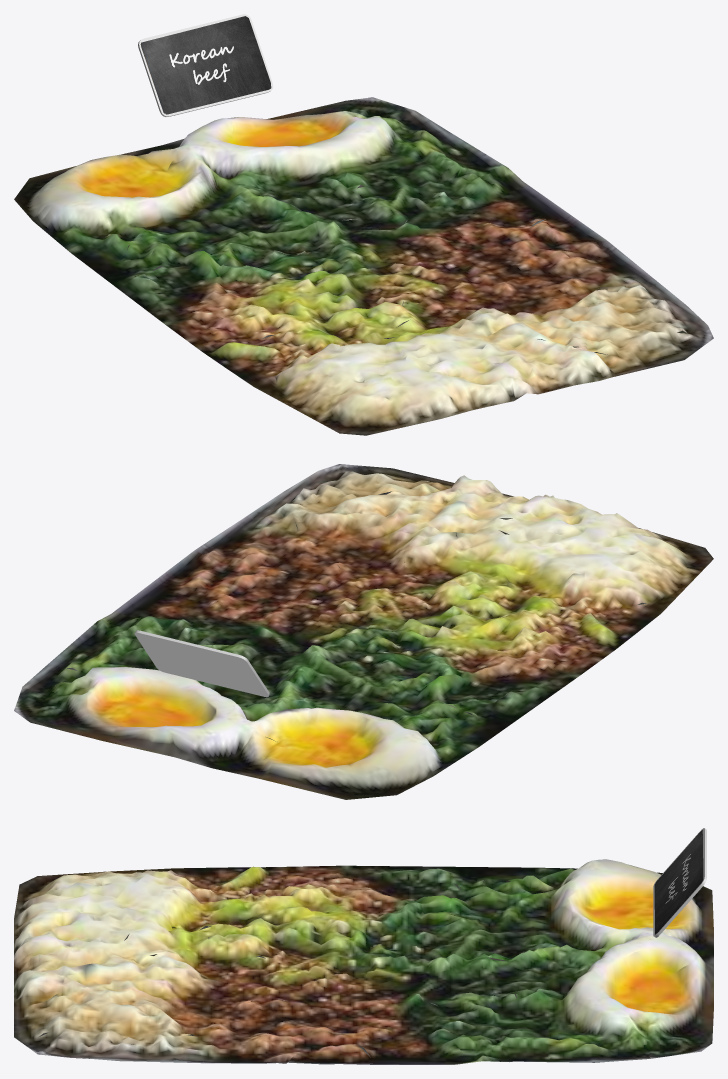
Rendered from food_tray_2.glb.
3 renders of one model, top to bottom at view 1: azimuth 30°, elevation 25°; view 2: azimuth 150°, elevation 25°; view 3: azimuth 270°, elevation 25°, orthographic.
Visible parts, largest first — view 1: Material2.004, Material2.001, Material2.002; view 2: Material2.004, Material2.002; view 3: Material2.004, Material2.001, Material2.002.
Boxes of the visible parts, box(x1,y1,x2,y2) form: Material2.004: box(14, 97, 713, 435); Material2.001: box(140, 16, 271, 114); Material2.002: box(138, 14, 273, 116); Material2.004: box(14, 464, 713, 799); Material2.002: box(134, 630, 269, 697); Material2.004: box(14, 859, 713, 1064); Material2.001: box(654, 830, 703, 934); Material2.002: box(653, 828, 706, 937).
Size of the model in its own units: 6.8 by 1.82 by 10.02.
Materials: 3 (2 with a texture image).
